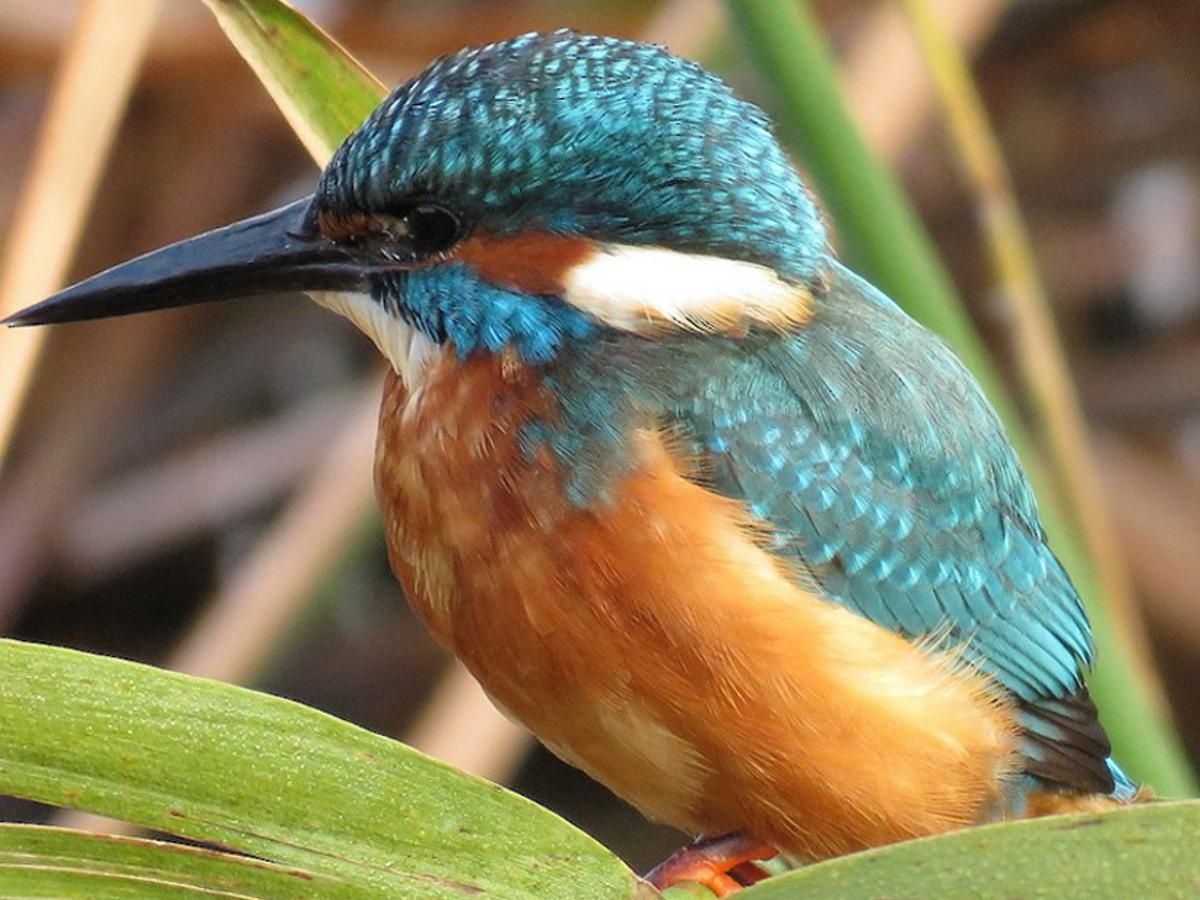kingfisher: (55, 40, 1180, 866)
